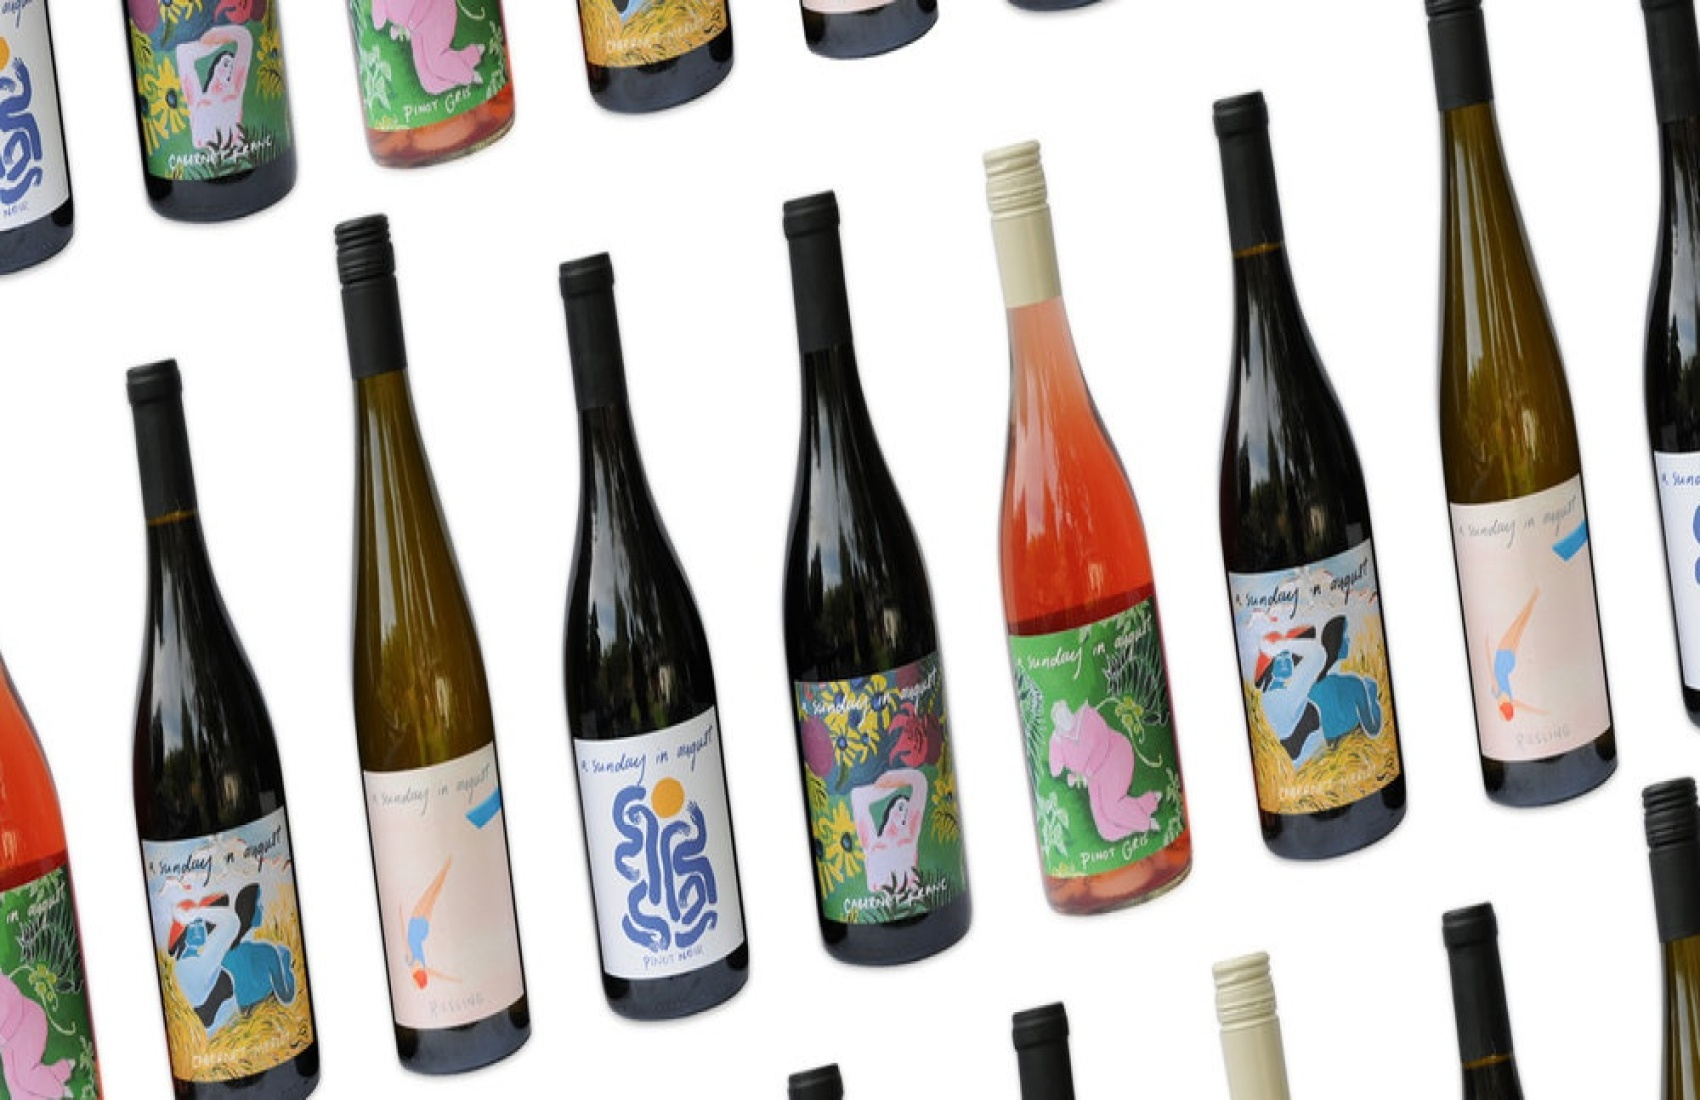wine: (323, 281, 535, 1050), (543, 237, 755, 1005), (100, 360, 320, 1100), (966, 130, 1177, 899), (1405, 12, 1616, 780)
